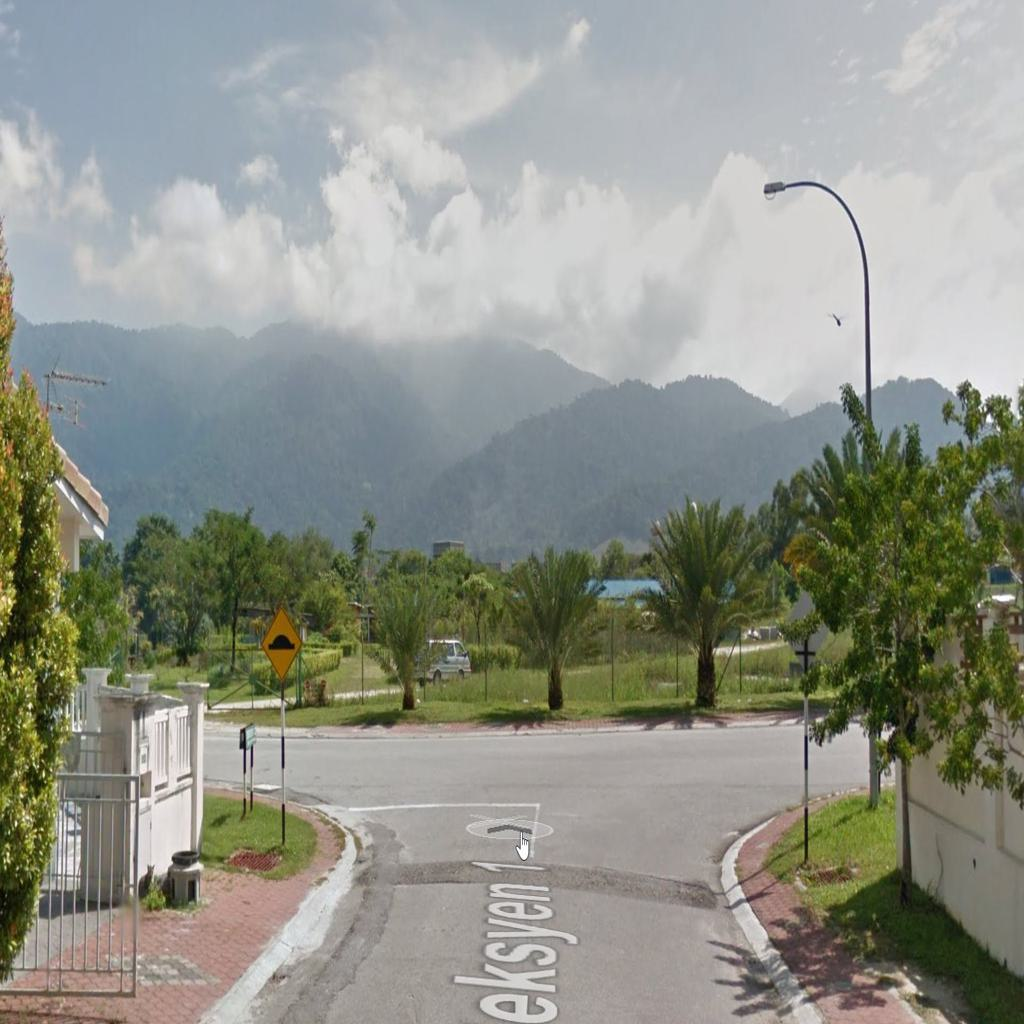Junction: (650, 691, 890, 874), (213, 706, 435, 883)
